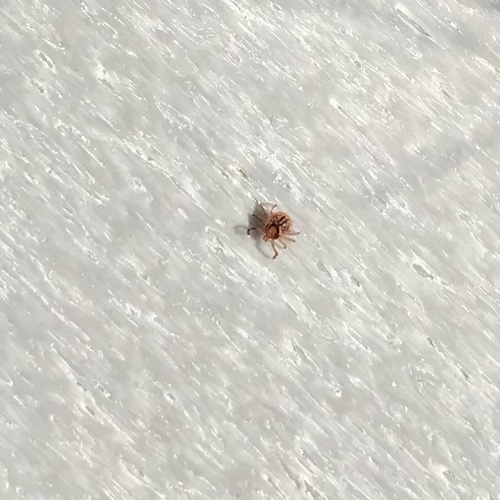dog tick: (248, 206, 291, 242)
